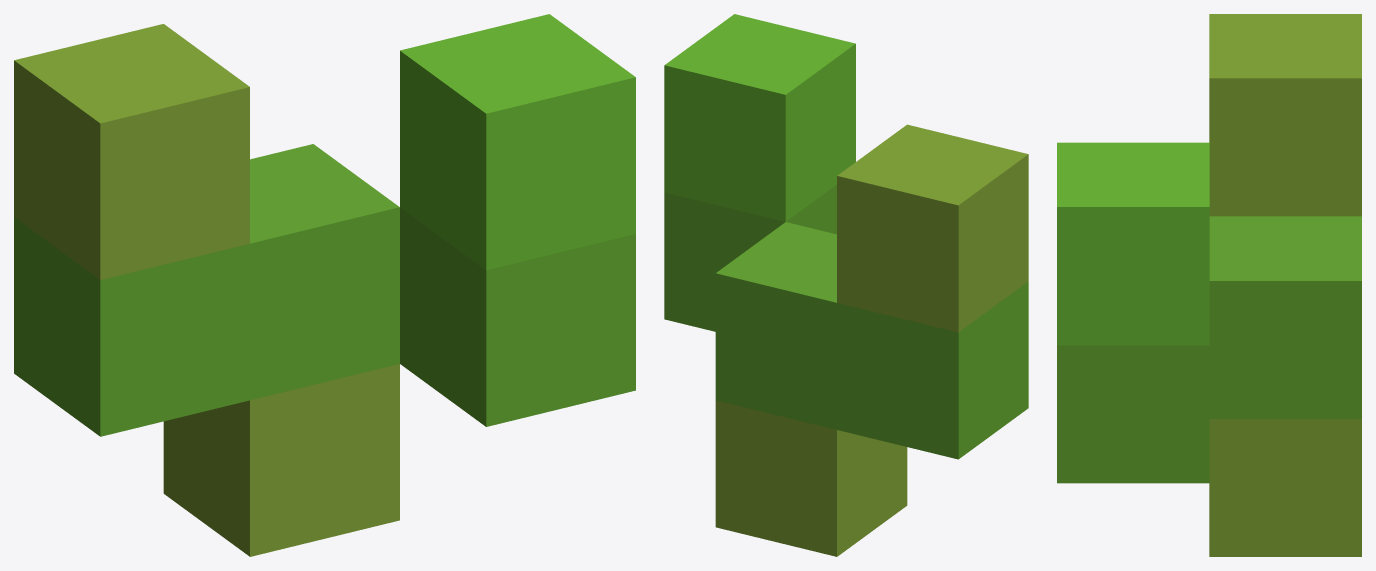
Rendered from Carrot_fase_1_leaf.obj.
The picture shows the model from 3 angles, left to right: view 1: azimuth 30°, elevation 25°; view 2: azimuth 150°, elevation 25°; view 3: azimuth 270°, elevation 25°; orthographic projection. The views are drawn at different scales.
Size of the model in its own units: 0.3 by 0.3 by 0.2.
Materials: 1 (1 with a texture image).
